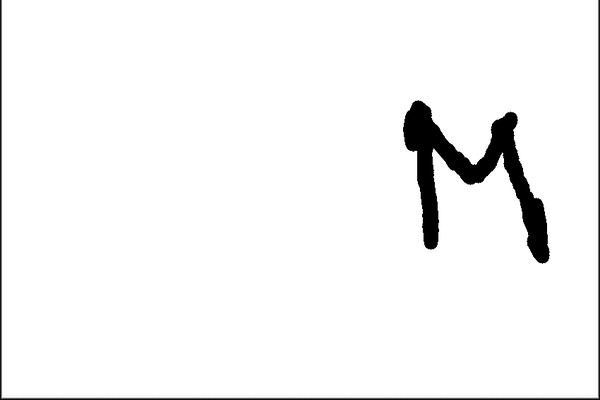M: (401, 99, 556, 264)
